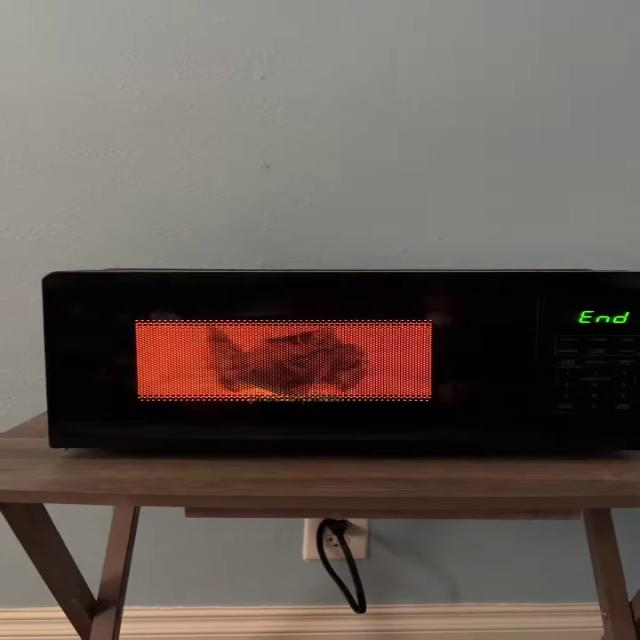fire: (134, 321, 432, 406)
